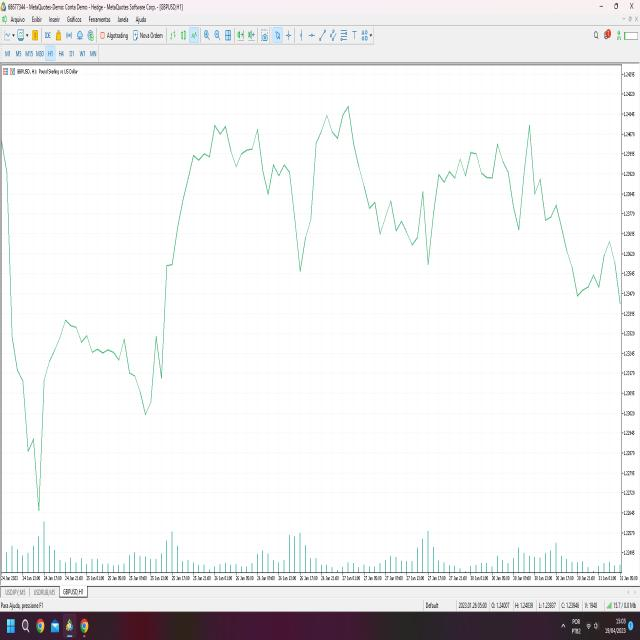topo_duplo: (301, 90, 373, 212)
